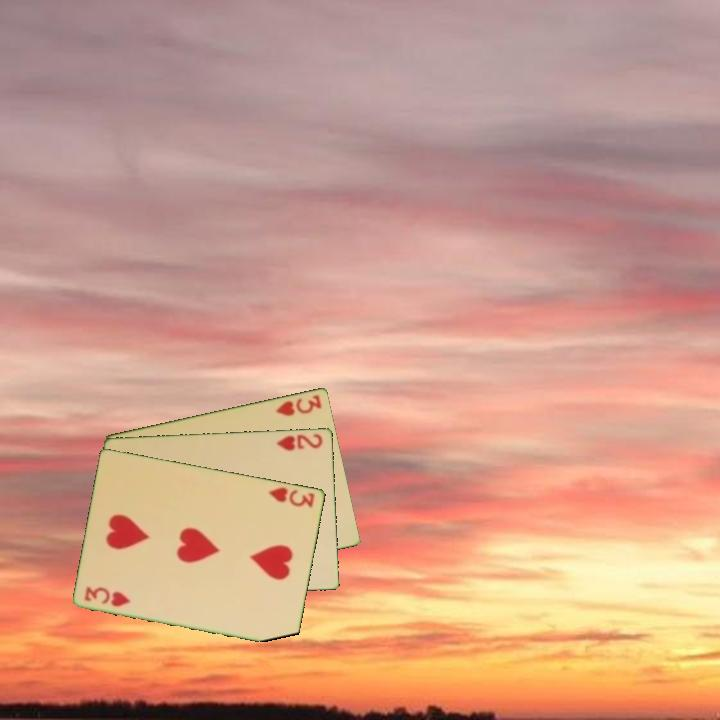2h: (273, 430, 325, 453)
3h: (272, 391, 325, 419), (265, 483, 318, 510), (81, 583, 133, 609)
